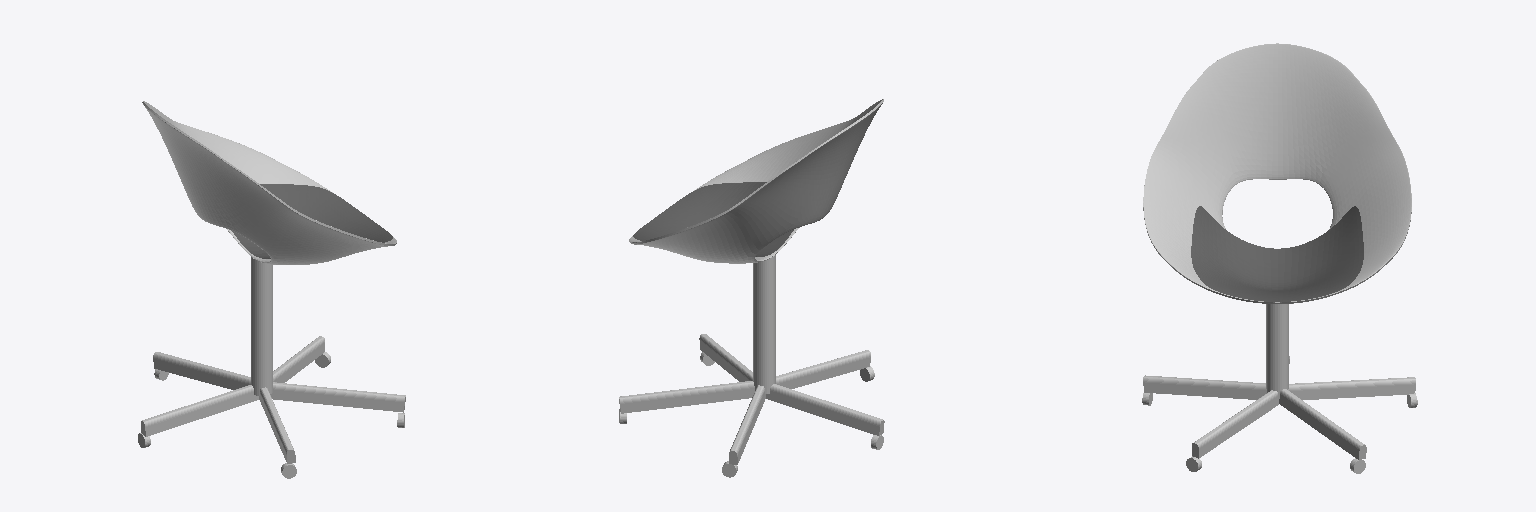
Rendered from LOBERGET.obj.
The picture shows the model from 3 angles: view 1: azimuth 30°, elevation 25°; view 2: azimuth 150°, elevation 25°; view 3: azimuth 270°, elevation 25°; orthographic projection.
Visible parts, largest first — view 1: Cube.005_Cube.006, Cube.003_Cube.004, Cube.006_Cube.007, Cylinder.006, Cylinder.001; view 2: Cube.005_Cube.006, Cube.003_Cube.004, Cube.006_Cube.007, Cylinder.006, Cylinder.001; view 3: Cube.005_Cube.006, Cube.006_Cube.007, Cube.003_Cube.004, Cylinder.006, Cylinder.001.
Boxes of the visible parts, <box> form: Cube.005_Cube.006: <box>142,101,396,264</box>; Cube.003_Cube.004: <box>141,336,405,463</box>; Cube.006_Cube.007: <box>232,184,392,258</box>; Cylinder.006: <box>251,257,272,395</box>; Cylinder.001: <box>138,352,404,478</box>; Cube.005_Cube.006: <box>629,99,883,263</box>; Cube.003_Cube.004: <box>619,334,884,464</box>; Cube.006_Cube.007: <box>633,182,793,256</box>; Cylinder.006: <box>753,255,775,393</box>; Cylinder.001: <box>619,352,883,477</box>; Cube.005_Cube.006: <box>1143,43,1411,303</box>; Cube.006_Cube.007: <box>1191,206,1363,301</box>; Cube.003_Cube.004: <box>1143,375,1415,459</box>; Cylinder.006: <box>1266,304,1288,398</box>; Cylinder.001: <box>1142,356,1417,473</box>.
Bounding box in the file's own units: 1.26 × 1.75 × 1.32.